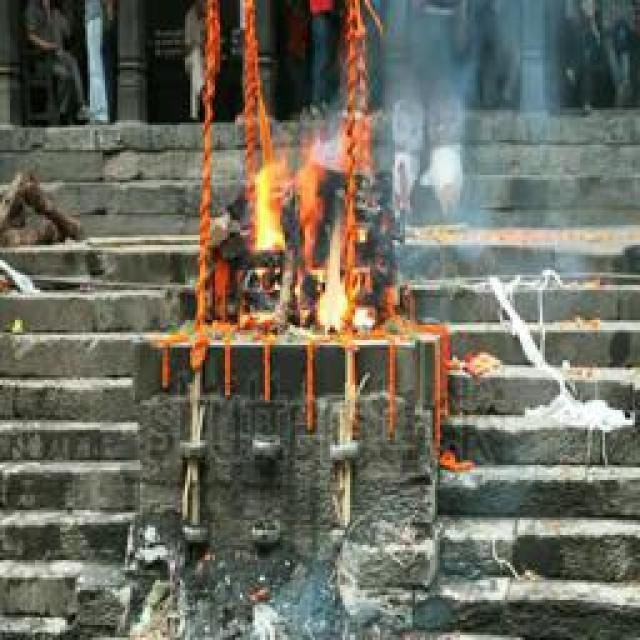Fire: (244, 129, 347, 334)
